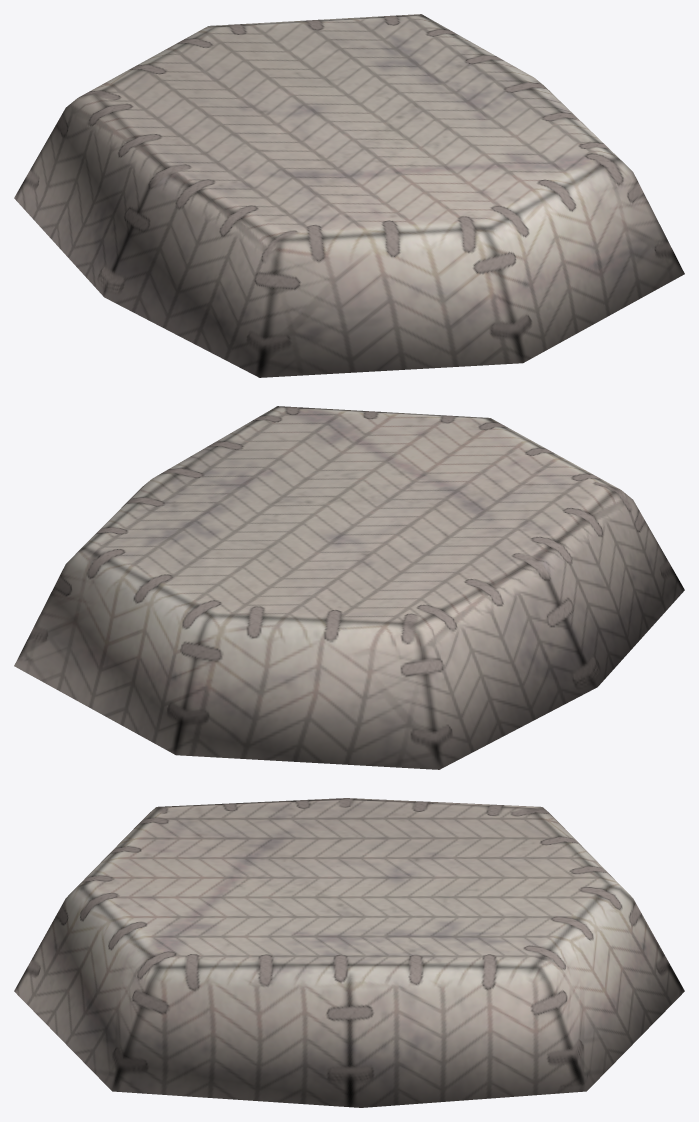
File: lpb_cs_Stone1.fbx
The picture shows the model from 3 angles, top to bottom: view 1: azimuth 30°, elevation 25°; view 2: azimuth 150°, elevation 25°; view 3: azimuth 270°, elevation 25°; orthographic projection. The views are drawn at different scales.
Visible parts, largest first — view 1: lpb_cs_Stone1; view 2: lpb_cs_Stone1; view 3: lpb_cs_Stone1.
Part boxes in pixels (x1=…): lpb_cs_Stone1: x1=14, y1=14, x2=684, y2=377; lpb_cs_Stone1: x1=14, y1=406, x2=684, y2=769; lpb_cs_Stone1: x1=14, y1=798, x2=684, y2=1107.
Bounding box in the file's own units: 44.17 × 9.51 × 53.75.
